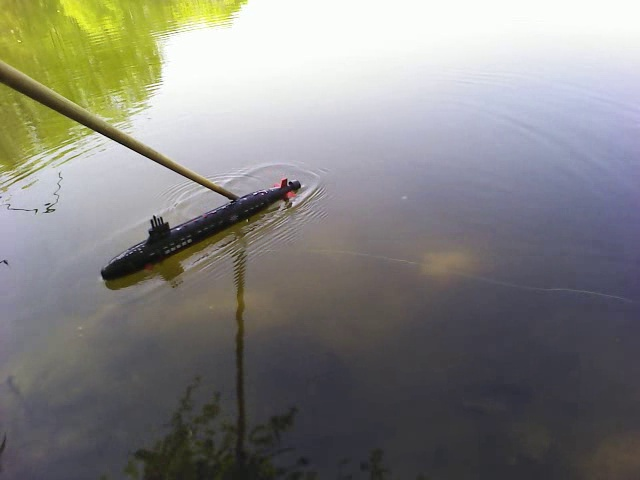submarine: (98, 169, 307, 284)
